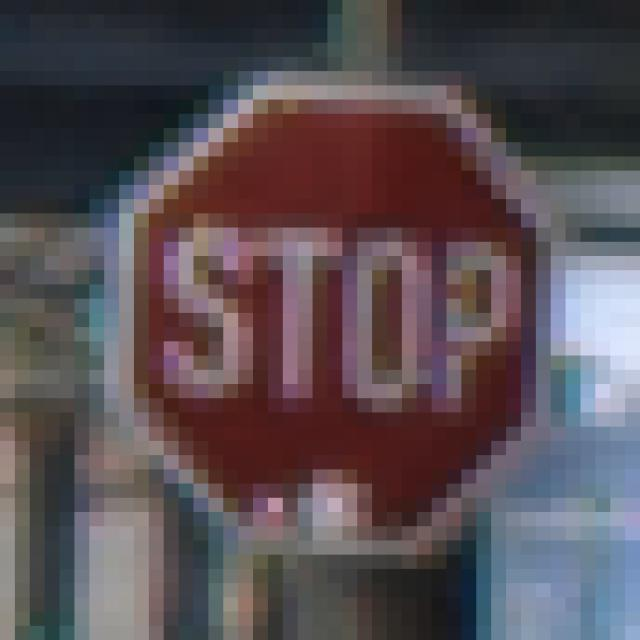STOP: (76, 72, 567, 570)
